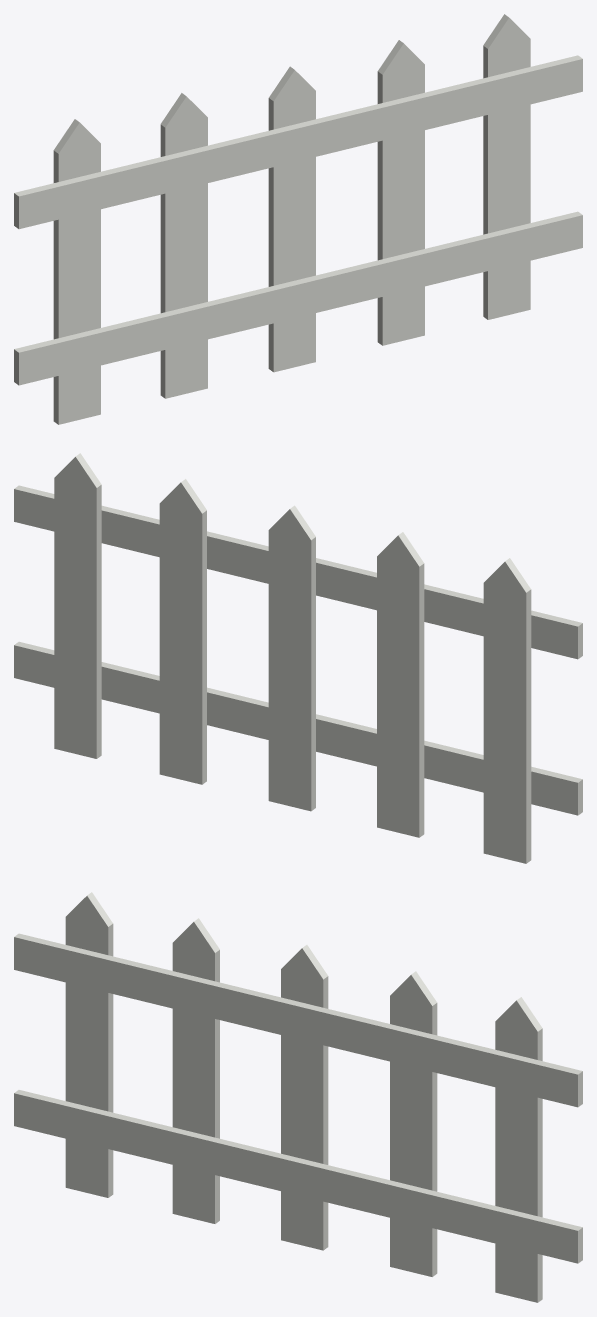
Rendered from Fence_Section.fbx.
3 renders of one model, top to bottom at view 1: azimuth 30°, elevation 25°; view 2: azimuth 150°, elevation 25°; view 3: azimuth 330°, elevation 25°, orthographic.
Parts seen in each view (by area): view 1: Cube.007; view 2: Cube.007; view 3: Cube.007.
Part boxes in pixels (bbox=[...]): Cube.007: bbox=[14, 14, 582, 424]; Cube.007: bbox=[14, 453, 582, 863]; Cube.007: bbox=[14, 892, 582, 1302].
Size of the model in its own units: 238 by 120 by 8.02.
